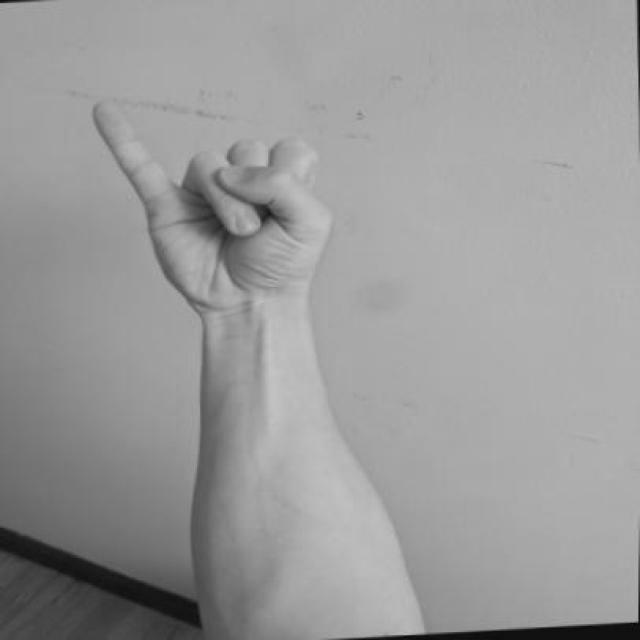I: (83, 83, 346, 328)
